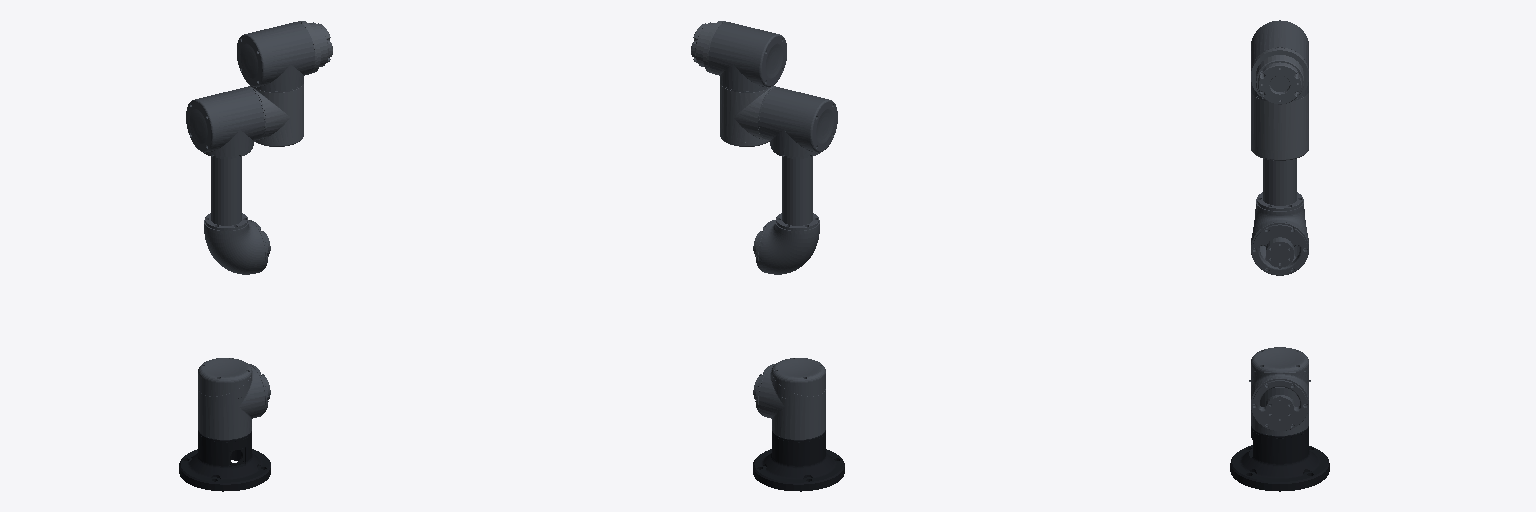
URDF robot description (robot_arm):
<?xml version="1.0" encoding="utf-8"?>
<robot name="robot_arm">
    <link name="world" />
    <joint name="fixed" type="fixed">
        <parent link="world" />
        <child link="base_link" />
    </joint>
    <link name="base_link">
        <inertial>
            <origin xyz="-0.000379135468760089 0.00044051065817062 0.025023985175857" rpy="0 0 0" />
            <mass value="0.195490498054091" />
            <inertia ixx="0.000197098942378015" ixy="1.73544380326031E-08" ixz="-1.8002259724736E-07" iyy="0.00020115978920217" iyz="-2.1699799937825E-06" izz="0.000316589137651227" />
        </inertial>
        <visual>
            <origin xyz="0 0 0" rpy="0 0 0" />
            <geometry>
                <mesh filename="package://robot_arm_description_4338/meshes/base_link.STL" />
            </geometry>
            <material name="base_dark">
                <color rgba="0.13 0.14 0.16 1.0" />
            </material>
        </visual>
        <collision>
            <origin xyz="0 0 0" rpy="0 0 0" />
            <geometry>
                <mesh filename="package://robot_arm_description_4338/meshes/base_link.STL" />
            </geometry>
        </collision>
    </link>
    <link name="link_1">
        <inertial>
            <origin xyz="0.00458971266849917 -3.20046849174062E-05 0.0425574520928825" rpy="0 0 0" />
            <mass value="0.31284736542166" />
            <inertia ixx="0.000154646806877315" ixy="4.09236809944852E-09" ixz="-8.1373895526861E-06" iyy="0.000137640315457541" iyz="-1.10068804835806E-08" izz="0.000167440749331112" />
        </inertial>
        <visual>
            <origin xyz="0 0 0" rpy="0 0 0" />
            <geometry>
                <mesh filename="package://robot_arm_description_4338/meshes/link_1.STL" />
            </geometry>
            <material name="gunmetal_main">
                <color rgba="0.31 0.33 0.36 1.0" />
            </material>
        </visual>
        <collision>
            <origin xyz="0 0 0" rpy="0 0 0" />
            <geometry>
                <mesh filename="package://robot_arm_description_4338/meshes/link_1.STL" />
            </geometry>
        </collision>
    </link>
    <joint name="joint_1" type="revolute">
        <origin xyz="0 0 0.063" rpy="0 0 0" />
        <parent link="base_link" />
        <child link="link_1" />
        <axis xyz="0 0 -1" />
        <limit lower="-3.14" upper="3.14" effort="100" velocity="100" />
    </joint>
    <link name="link_2">
        <inertial>
            <origin xyz="0.0437291888718274 -3.17241634150665E-05 0.121342621403178" rpy="0 0 0" />
            <mass value="0.587907106128444" />
            <inertia ixx="0.000432111071621861" ixy="3.77302870663473E-09" ixz="-5.21839747889797E-10" iyy="0.000377843479563513" iyz="-1.33160548801769E-08" izz="0.000325262257620724" />
        </inertial>
        <visual>
            <origin xyz="0 0 0" rpy="0 0 0" />
            <geometry>
                <mesh filename="package://robot_arm_description_4338/meshes/link_2.STL" />
            </geometry>
            <material name="gunmetal_main">
                <color rgba="0.31 0.33 0.36 1.0" />
            </material>
        </visual>
        <collision>
            <origin xyz="0 0 0" rpy="0 0 0" />
            <geometry>
                <mesh filename="package://robot_arm_description_4338/meshes/link_2.STL" />
            </geometry>
        </collision>
    </link>
    <joint name="joint_2" type="revolute">
        <origin xyz="0.044 0 0.0465" rpy="0 0 0" />
        <parent link="link_1" />
        <child link="link_2" />
        <axis xyz="-1 0 0" />
        <limit lower="-1.6" upper="1.6" effort="100" velocity="100" />
    </joint>
    <link name="link_3">
        <inertial>
            <origin xyz="-0.0342625302290131 -8.54393827617872E-07 0.130570556496791" rpy="0 0 0" />
            <mass value="0.368301492556341" />
            <inertia ixx="0.000284350975876608" ixy="1.99589868481762E-09" ixz="2.06902979779557E-06" iyy="0.000231576501898137" iyz="-3.41441474085351E-08" izz="0.00020347402203542" />
        </inertial>
        <visual>
            <origin xyz="0 0 0" rpy="0 0 0" />
            <geometry>
                <mesh filename="package://robot_arm_description_4338/meshes/link_3.STL" />
            </geometry>
            <material name="gunmetal_main">
                <color rgba="0.31 0.33 0.36 1.0" />
            </material>
        </visual>
        <collision>
            <origin xyz="0 0 0" rpy="0 0 0" />
            <geometry>
                <mesh filename="package://robot_arm_description_4338/meshes/link_3.STL" />
            </geometry>
        </collision>
    </link>
    <joint name="joint_3" type="revolute">
        <origin xyz="0 0 0.211" rpy="0 0 0" />
        <parent link="link_2" />
        <child link="link_3" />
        <axis xyz="-1 0 0" />
        <limit lower="-3.14" upper="3.14" effort="100" velocity="100" />
    </joint>
    <link name="link_4">
        <inertial>
            <origin xyz="0.0279097628469686 1.05492889386494E-06 0.000741999532285043" rpy="0 0 0" />
            <mass value="0.229125165376225" />
            <inertia ixx="0.000131116825625379" ixy="2.407566633754E-08" ixz="-5.24425161186352E-06" iyy="0.000108737830933017" iyz="-5.32181525503191E-10" izz="0.000136962636362692" />
        </inertial>
        <visual>
            <origin xyz="0 0 0" rpy="0 0 0" />
            <geometry>
                <mesh filename="package://robot_arm_description_4338/meshes/link_4.STL" />
            </geometry>
            <material name="soft_titanium">
                <color rgba="0.35 0.37 0.40 1.0" />
            </material>
        </visual>
        <collision>
            <origin xyz="0 0 0" rpy="0 0 0" />
            <geometry>
                <mesh filename="package://robot_arm_description_4338/meshes/link_4.STL" />
            </geometry>
        </collision>
    </link>
    <joint name="joint_4" type="revolute">
        <origin xyz="-0.0041003 0 0.1945" rpy="0 0 0" />
        <parent link="link_3" />
        <child link="link_4" />
        <axis xyz="1 0 0" />
        <limit lower="-3.14" upper="3.14" effort="100" velocity="100" />
    </joint>
    <link name="link_5">
        <inertial>
            <origin xyz="0.000517900737938733 4.3776640414793E-05 0.032331216650774" rpy="0 0 0" />
            <mass value="0.199706758026391" />
            <inertia ixx="0.000126934835025011" ixy="-9.48676769820221E-09" ixz="-5.09905639766148E-06" iyy="9.85451693816129E-05" iyz="-1.08669959041328E-07" izz="0.000113330240712783" />
        </inertial>
        <visual>
            <origin xyz="0 0 0" rpy="0 0 0" />
            <geometry>
                <mesh filename="package://robot_arm_description_4338/meshes/link_5.STL" />
            </geometry>
            <material name="gunmetal_main">
                <color rgba="0.31 0.33 0.36 1.0" />
            </material>
        </visual>
        <collision>
            <origin xyz="0 0 0" rpy="0 0 0" />
            <geometry>
                <mesh filename="package://robot_arm_description_4338/meshes/link_5.STL" />
            </geometry>
        </collision>
    </link>
    <joint name="joint_5" type="revolute">
        <origin xyz="0.0396 0 0.0379" rpy="0 0 0" />
        <parent link="link_4" />
        <child link="link_5" />
        <axis xyz="0 0 1" />
        <limit lower="-3.14" upper="3.14" effort="100" velocity="100" />
    </joint>
    <link name="link_6">
        <inertial>
            <origin xyz="0.0093015 -8.3655E-07 0.001069" rpy="0 0 0" />
            <mass value="0.060816" />
            <inertia ixx="3.898E-05" ixy="3.5762E-10" ixz="-1.8499E-07" iyy="2.3062E-05" iyz="9.6148E-10" izz="2.3064E-05" />
        </inertial>
        <visual>
            <origin xyz="0 0 0" rpy="0 0 0" />
            <geometry>
                <mesh filename="package://robot_arm_description_4338/meshes/link_6.STL" />
            </geometry>
            <material name="soft_titanium">
                <color rgba="0.35 0.37 0.40 1.0" />
            </material>
        </visual>
        <collision>
            <origin xyz="0 0 0" rpy="0 0 0" />
            <geometry>
                <mesh filename="package://robot_arm_description_4338/meshes/link_6.STL" />
            </geometry>
        </collision>
    </link>
    <joint name="joint_6" type="revolute">
        <origin xyz="0.0379 0 0.0396" rpy="0 0 0" />
        <parent link="link_5" />
        <child link="link_6" />
        <axis xyz="1 0 0" />
        <limit lower="-3.14" upper="3.14" effort="100" velocity="100" />
    </joint>
    <transmission name="trans_joint_1">
        <type>transmission_interface/SimpleTransmission</type>
        <joint name="joint_1">
            <hardwareInterface>hardware_interface/PositionJointInterface</hardwareInterface>
        </joint>
        <actuator name="joint_1_motor">
            <hardwareInterface>hardware_interface/PositionJointInterface</hardwareInterface>
            <mechanicalReduction>1</mechanicalReduction>
        </actuator>
    </transmission>
    <transmission name="trans_joint_2">
        <type>transmission_interface/SimpleTransmission</type>
        <joint name="joint_2">
            <hardwareInterface>hardware_interface/PositionJointInterface</hardwareInterface>
        </joint>
        <actuator name="joint_2_motor">
            <hardwareInterface>hardware_interface/PositionJointInterface</hardwareInterface>
            <mechanicalReduction>1</mechanicalReduction>
        </actuator>
    </transmission>
    <transmission name="trans_joint_3">
        <type>transmission_interface/SimpleTransmission</type>
        <joint name="joint_3">
            <hardwareInterface>hardware_interface/PositionJointInterface</hardwareInterface>
        </joint>
        <actuator name="joint_3_motor">
            <hardwareInterface>hardware_interface/PositionJointInterface</hardwareInterface>
            <mechanicalReduction>1</mechanicalReduction>
        </actuator>
    </transmission>
    <transmission name="trans_joint_4">
        <type>transmission_interface/SimpleTransmission</type>
        <joint name="joint_4">
            <hardwareInterface>hardware_interface/PositionJointInterface</hardwareInterface>
        </joint>
        <actuator name="joint_4_motor">
            <hardwareInterface>hardware_interface/PositionJointInterface</hardwareInterface>
            <mechanicalReduction>1</mechanicalReduction>
        </actuator>
    </transmission>
    <transmission name="trans_joint_5">
        <type>transmission_interface/SimpleTransmission</type>
        <joint name="joint_5">
            <hardwareInterface>hardware_interface/PositionJointInterface</hardwareInterface>
        </joint>
        <actuator name="joint_5_motor">
            <hardwareInterface>hardware_interface/PositionJointInterface</hardwareInterface>
            <mechanicalReduction>1</mechanicalReduction>
        </actuator>
    </transmission>
    <transmission name="trans_joint_6">
        <type>transmission_interface/SimpleTransmission</type>
        <joint name="joint_6">
            <hardwareInterface>hardware_interface/PositionJointInterface</hardwareInterface>
        </joint>
        <actuator name="joint_6_motor">
            <hardwareInterface>hardware_interface/PositionJointInterface</hardwareInterface>
            <mechanicalReduction>1</mechanicalReduction>
        </actuator>
    </transmission>
</robot>

--- Render facts (derived) ---
The picture shows the robot from 3 angles, left to right: view 1: azimuth 30°, elevation 25°; view 2: azimuth 150°, elevation 25°; view 3: azimuth 270°, elevation 25°; orthographic projection.
Robot: robot_arm — 8 links, 7 joints (6 revolute, 1 fixed); root link world; default pose: every joint at zero.
Links seen in each view (by area): view 1: link_3, link_1, link_5, base_link, link_4, link_6; view 2: link_3, link_1, link_5, base_link, link_4, link_6; view 3: link_3, link_1, base_link, link_4, link_6, link_5.
Boxes of the visible links, bbox=[...] form: link_3: bbox=[186, 87, 270, 274]; link_1: bbox=[198, 358, 270, 439]; link_5: bbox=[237, 22, 314, 92]; base_link: bbox=[179, 430, 270, 491]; link_4: bbox=[248, 84, 303, 146]; link_6: bbox=[298, 21, 332, 73]; link_3: bbox=[753, 87, 837, 274]; link_1: bbox=[753, 358, 825, 439]; link_5: bbox=[709, 22, 786, 92]; base_link: bbox=[753, 430, 844, 491]; link_4: bbox=[720, 84, 775, 146]; link_6: bbox=[691, 21, 725, 73]; link_3: bbox=[1251, 159, 1308, 275]; link_1: bbox=[1249, 347, 1310, 435]; base_link: bbox=[1230, 426, 1329, 491]; link_4: bbox=[1251, 93, 1308, 160]; link_6: bbox=[1251, 47, 1308, 104]; link_5: bbox=[1251, 20, 1308, 100].
Size in the robot's own frame: 0.2108 by 0.122 by 0.6285 metres.
Meshes: 7 distinct files referenced, 6 mesh visuals loaded (6 binary STL); not drawn: 1 (reference not matched to a file when rendering).
